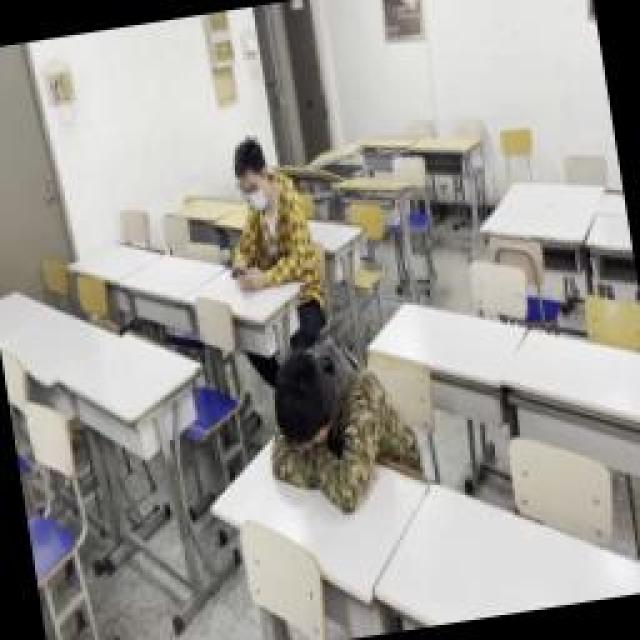phone: (215, 135, 315, 287)
sleep: (255, 342, 390, 508)
